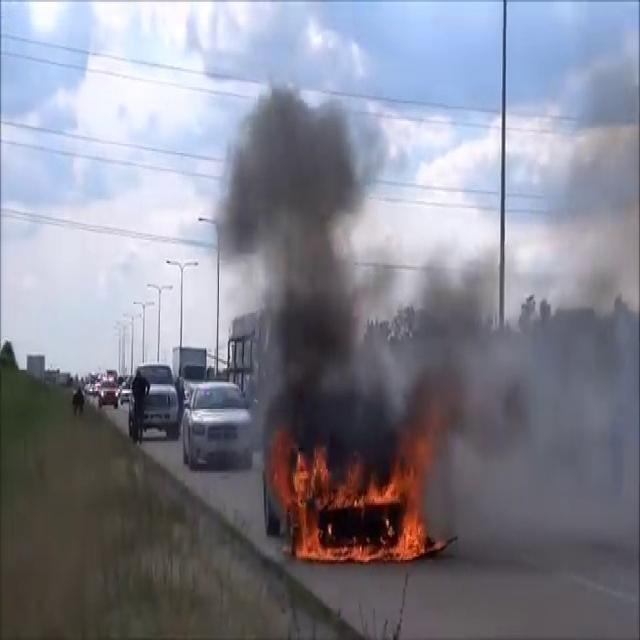Fire: (276, 438, 440, 568)
Smoke: (219, 62, 441, 459), (422, 220, 639, 560)
